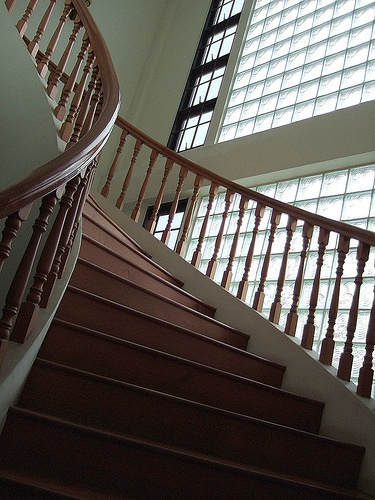stairs_up: (60, 191, 373, 500)
